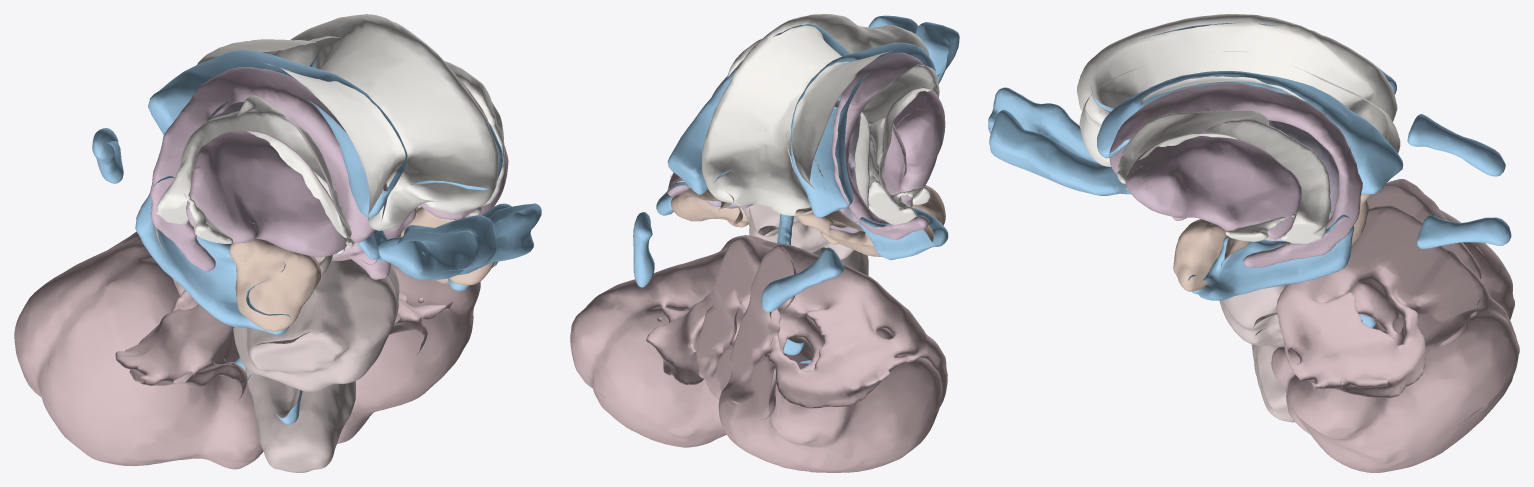
The model's file is neuro.glb.
The picture shows the model from 3 angles, left to right: view 1: azimuth 30°, elevation 25°; view 2: azimuth 150°, elevation 25°; view 3: azimuth 270°, elevation 25°; orthographic projection. The views are drawn at different scales.
Visible parts, largest first — view 1: cerebellum_R, corpus_callosum, lat_ventricle_R, pons, putamen_R, caudate_R, cerebellum_L, internal_capsule_R, medulla, amygdala_R, lat_ventricle_L, internal_capsule_L (+2 smaller); view 2: cerebellum_R, corpus_callosum, cerebellum_L, lat_ventricle_R, internal_capsule_R, vermis, lat_ventricle_L, putamen_R, caudate_R, midbrain, hippocampus_R, hippocampus_L (+4 smaller); view 3: cerebellum_L, corpus_callosum, lat_ventricle_L, putamen_L, caudate_L, internal_capsule_L, lat_ventricle_R, amygdala_L, pons, vermis, cerebellum_R, medulla (+1 smaller).
Part boxes in pixels (x1,y1,x2,y2): cerebellum_R: (14,231,266,469); corpus_callosum: (197,14,498,230); lat_ventricle_R: (92,50,496,334); pons: (233,259,399,391); putamen_R: (186,130,350,257); caudate_R: (150,67,387,271); cerebellum_L: (337,263,480,443); internal_capsule_R: (156,95,354,254); medulla: (245,330,355,472); amygdala_R: (229,239,321,331); lat_ventricle_L: (309,24,541,290); internal_capsule_L: (418,61,505,221); cerebellum_R: (718,243,947,472); corpus_callosum: (701,14,929,215); cerebellum_L: (570,235,782,447); lat_ventricle_R: (761,22,959,312); internal_capsule_R: (850,64,939,224); vermis: (696,235,796,419); lat_ventricle_L: (633,15,918,287); putamen_R: (879,87,945,208); caudate_R: (832,52,928,239); midbrain: (742,204,854,259); hippocampus_R: (795,207,933,256); hippocampus_L: (671,188,748,227); cerebellum_L: (1271,205,1519,472); corpus_callosum: (1077,14,1400,166); lat_ventricle_L: (989,71,1511,300); putamen_L: (1125,132,1301,239); caudate_L: (1109,83,1362,267); internal_capsule_L: (1117,110,1331,243); lat_ventricle_R: (988,22,1505,176); amygdala_L: (1173,219,1249,291); pons: (1219,284,1286,346); vermis: (1367,179,1482,367); cerebellum_R: (1440,210,1514,319); medulla: (1251,312,1324,422).
Size of the model in its own units: 1.1 by 1.07 by 1.32.
